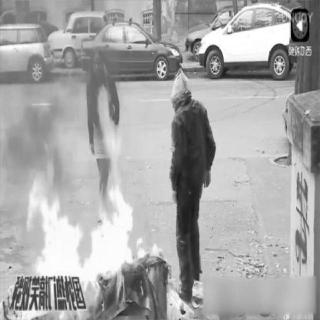Fire: (12, 80, 152, 309)
